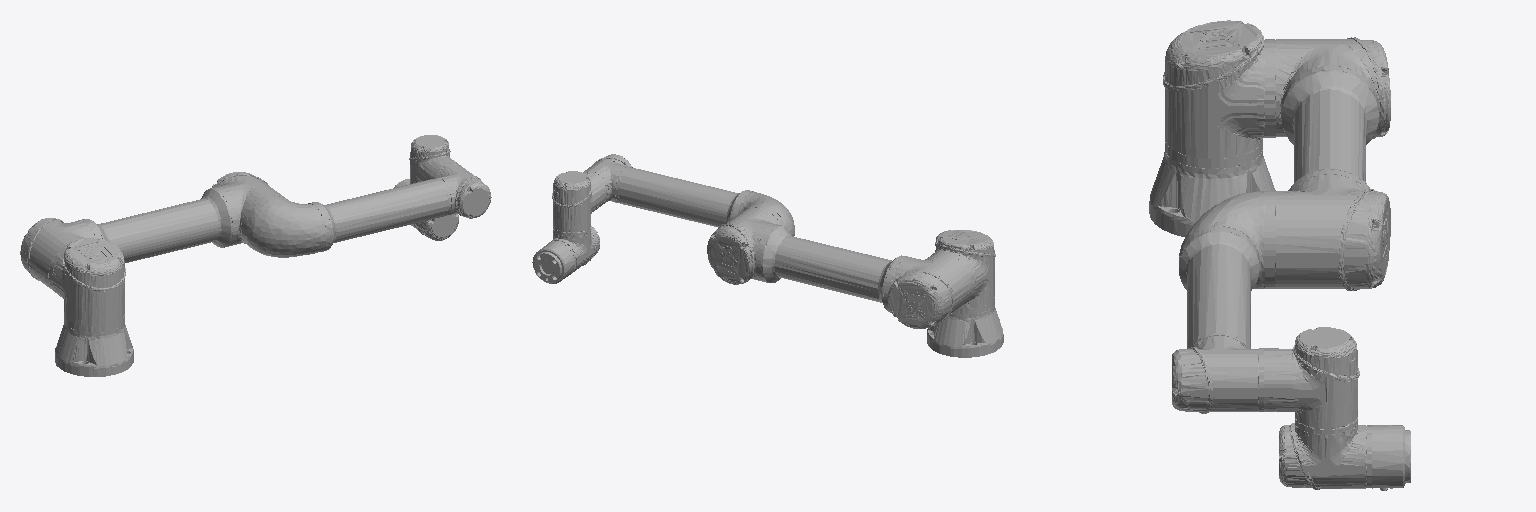
URDF robot description (ur5e):
<?xml version="1.0" encoding="utf-8"?>
<!-- =================================================================================== -->
<!-- |    This document was autogenerated by xacro from ur5e_robot.urdf.xacro          | -->
<!-- |    EDITING THIS FILE BY HAND IS NOT RECOMMENDED                                 | -->
<!-- =================================================================================== -->
<robot name="ur5e">
  <gazebo>
    <plugin filename="libgazebo_ros_control.so" name="ros_control">
      <!--robotNamespace>/</robotNamespace-->
      <!--robotSimType>gazebo_ros_control/DefaultRobotHWSim</robotSimType-->
    </plugin>
    <!--
    <plugin name="gazebo_ros_power_monitor_controller" filename="libgazebo_ros_power_monitor.so">
      <alwaysOn>true</alwaysOn>
      <updateRate>1.0</updateRate>
      <timeout>5</timeout>
      <powerStateTopic>power_state</powerStateTopic>
      <powerStateRate>10.0</powerStateRate>
      <fullChargeCapacity>87.78</fullChargeCapacity>     
      <dischargeRate>-474</dischargeRate>
      <chargeRate>525</chargeRate>
      <dischargeVoltage>15.52</dischargeVoltage>
      <chargeVoltage>16.41</chargeVoltage>
    </plugin>
-->
  </gazebo>
  <!--property name="shoulder_height" value="0.089159" /-->
  <!--property name="shoulder_offset" value="0.13585" /-->
  <!-- shoulder_offset - elbow_offset + wrist_1_length = 0.10915 -->
  <!--property name="upper_arm_length" value="0.42500" /-->
  <!--property name="elbow_offset" value="0.1197" /-->
  <!-- CAD measured -->
  <!--property name="forearm_length" value="0.39225" /-->
  <!--property name="wrist_1_length" value="0.093" /-->
  <!-- CAD measured -->
  <!--property name="wrist_2_length" value="0.09465" /-->
  <!-- In CAD this distance is 0.930, but in the spec it is 0.09465 -->
  <!--property name="wrist_3_length" value="0.0823" /-->
  <!-- manually measured -->
  <link name="base_link">
    <visual>
      <geometry>
        <mesh filename="package://ur_e_description/meshes/ur5e/visual/base.obj"/>
      </geometry>
      <material name="LightGrey">
        <color rgba="0.7 0.7 0.7 1.0"/>
      </material>
    </visual>
    <collision>
      <geometry>
        <mesh filename="package://ur_e_description/meshes/ur5e/collision/base.stl"/>
      </geometry>
    </collision>
    <inertial>
      <mass value="4.0"/>
      <origin rpy="0 0 0" xyz="0.0 0.0 0.0"/>
      <inertia ixx="0.00443333156" ixy="0.0" ixz="0.0" iyy="0.00443333156" iyz="0.0" izz="0.0072"/>
    </inertial>
  </link>
  <joint name="shoulder_pan_joint" type="revolute">
    <parent link="base_link"/>
    <child link="shoulder_link"/>
    <origin rpy="0.0 0.0 0.0" xyz="0.0 0.0 0.163"/>
    <axis xyz="0 0 1"/>
    <limit effort="150.0" lower="-6.28318530718" upper="6.28318530718" velocity="3.14"/>
    <dynamics damping="0.0" friction="0.0"/>
  </joint>
  <link name="shoulder_link">
    <visual>
      <geometry>
        <mesh filename="package://ur_e_description/meshes/ur5e/visual/shoulder.obj"/>
      </geometry>
      <material name="LightGrey">
        <color rgba="0.7 0.7 0.7 1.0"/>
      </material>
    </visual>
    <collision>
      <geometry>
        <mesh filename="package://ur_e_description/meshes/ur5e/collision/shoulder.stl"/>
      </geometry>
    </collision>
    <inertial>
      <mass value="3.7"/>
      <origin rpy="0 0 0" xyz="0.0 0.0 0.0"/>
      <inertia ixx="0.010267495893" ixy="0.0" ixz="0.0" iyy="0.010267495893" iyz="0.0" izz="0.00666"/>
    </inertial>
  </link>
  <joint name="shoulder_lift_joint" type="revolute">
    <parent link="shoulder_link"/>
    <child link="upper_arm_link"/>
    <origin rpy="0.0 1.57079632679 0.0" xyz="0.0 0.138 0.0"/>
    <axis xyz="0 1 0"/>
    <limit effort="150.0" lower="-6.28318530718" upper="6.28318530718" velocity="3.14"/>
    <dynamics damping="0.0" friction="0.0"/>
  </joint>
  <link name="upper_arm_link">
    <visual>
      <geometry>
        <mesh filename="package://ur_e_description/meshes/ur5e/visual/upperarm.obj"/>
      </geometry>
      <material name="LightGrey">
        <color rgba="0.7 0.7 0.7 1.0"/>
      </material>
    </visual>
    <collision>
      <geometry>
        <mesh filename="package://ur_e_description/meshes/ur5e/collision/upperarm.stl"/>
      </geometry>
    </collision>
    <inertial>
      <mass value="8.393"/>
      <origin rpy="0 0 0" xyz="0.0 0.0 0.2125"/>
      <inertia ixx="0.133885781862" ixy="0.0" ixz="0.0" iyy="0.133885781862" iyz="0.0" izz="0.0151074"/>
    </inertial>
  </link>
  <joint name="elbow_joint" type="revolute">
    <parent link="upper_arm_link"/>
    <child link="forearm_link"/>
    <origin rpy="0.0 0.0 0.0" xyz="0.0 -0.131 0.425"/>
    <axis xyz="0 1 0"/>
    <limit effort="150.0" lower="-3.14159265359" upper="3.14159265359" velocity="3.14"/>
    <dynamics damping="0.0" friction="0.0"/>
  </joint>
  <link name="forearm_link">
    <visual>
      <geometry>
        <mesh filename="package://ur_e_description/meshes/ur5e/visual/forearm.obj"/>
      </geometry>
      <material name="LightGrey">
        <color rgba="0.7 0.7 0.7 1.0"/>
      </material>
    </visual>
    <collision>
      <geometry>
        <mesh filename="package://ur_e_description/meshes/ur5e/collision/forearm.stl"/>
      </geometry>
    </collision>
    <inertial>
      <mass value="2.275"/>
      <origin rpy="0 0 0" xyz="0.0 0.0 0.196"/>
      <inertia ixx="0.0311796208615" ixy="0.0" ixz="0.0" iyy="0.0311796208615" iyz="0.0" izz="0.004095"/>
    </inertial>
  </link>
  <joint name="wrist_1_joint" type="revolute">
    <parent link="forearm_link"/>
    <child link="wrist_1_link"/>
    <origin rpy="0.0 1.57079632679 0.0" xyz="0.0 0.0 0.392"/>
    <axis xyz="0 1 0"/>
    <limit effort="28.0" lower="-6.28318530718" upper="6.28318530718" velocity="6.28"/>
    <dynamics damping="0.0" friction="0.0"/>
  </joint>
  <link name="wrist_1_link">
    <visual>
      <geometry>
        <mesh filename="package://ur_e_description/meshes/ur5e/visual/wrist1.obj"/>
      </geometry>
      <material name="LightGrey">
        <color rgba="0.7 0.7 0.7 1.0"/>
      </material>
    </visual>
    <collision>
      <geometry>
        <mesh filename="package://ur_e_description/meshes/ur5e/collision/wrist1.stl"/>
      </geometry>
    </collision>
    <inertial>
      <mass value="1.219"/>
      <origin rpy="0 0 0" xyz="0.0 0.127 0.0"/>
      <inertia ixx="0.00255989897604" ixy="0.0" ixz="0.0" iyy="0.00255989897604" iyz="0.0" izz="0.0021942"/>
    </inertial>
  </link>
  <joint name="wrist_2_joint" type="revolute">
    <parent link="wrist_1_link"/>
    <child link="wrist_2_link"/>
    <origin rpy="0.0 0.0 0.0" xyz="0.0 0.127 0.0"/>
    <axis xyz="0 0 1"/>
    <limit effort="28.0" lower="-6.28318530718" upper="6.28318530718" velocity="6.28"/>
    <dynamics damping="0.0" friction="0.0"/>
  </joint>
  <link name="wrist_2_link">
    <visual>
      <geometry>
        <mesh filename="package://ur_e_description/meshes/ur5e/visual/wrist2.obj"/>
      </geometry>
      <material name="LightGrey">
        <color rgba="0.7 0.7 0.7 1.0"/>
      </material>
    </visual>
    <collision>
      <geometry>
        <mesh filename="package://ur_e_description/meshes/ur5e/collision/wrist2.stl"/>
      </geometry>
    </collision>
    <inertial>
      <mass value="1.219"/>
      <origin rpy="0 0 0" xyz="0.0 0.0 0.1"/>
      <inertia ixx="0.00255989897604" ixy="0.0" ixz="0.0" iyy="0.00255989897604" iyz="0.0" izz="0.0021942"/>
    </inertial>
  </link>
  <joint name="wrist_3_joint" type="revolute">
    <parent link="wrist_2_link"/>
    <child link="wrist_3_link"/>
    <origin rpy="0.0 0.0 0.0" xyz="0.0 0.0 0.1"/>
    <axis xyz="0 1 0"/>
    <limit effort="28.0" lower="-6.28318530718" upper="6.28318530718" velocity="6.28"/>
    <dynamics damping="0.0" friction="0.0"/>
  </joint>
  <link name="wrist_3_link">
    <visual>
      <geometry>
        <mesh filename="package://ur_e_description/meshes/ur5e/visual/wrist3.obj"/>
      </geometry>
      <material name="LightGrey">
        <color rgba="0.7 0.7 0.7 1.0"/>
      </material>
    </visual>
    <collision>
      <geometry>
        <mesh filename="package://ur_e_description/meshes/ur5e/collision/wrist3.stl"/>
      </geometry>
    </collision>
    <inertial>
      <mass value="0.1879"/>
      <origin rpy="1.57079632679 0 0" xyz="0.0 0.0771 0.0"/>
      <inertia ixx="9.89041005217e-05" ixy="0.0" ixz="0.0" iyy="9.89041005217e-05" iyz="0.0" izz="0.0001321171875"/>
    </inertial>
  </link>
  <joint name="ee_fixed_joint" type="fixed">
    <parent link="wrist_3_link"/>
    <child link="ee_link"/>
    <origin rpy="0.0 0.0 1.57079632679" xyz="0.0 0.1 0.0"/>
  </joint>
  <link name="ee_link">
    <collision>
      <geometry>
        <box size="0.01 0.01 0.01"/>
      </geometry>
      <origin rpy="0 0 0" xyz="-0.01 0 0"/>
    </collision>
  </link>
  <transmission name="shoulder_pan_trans">
    <type>transmission_interface/SimpleTransmission</type>
    <joint name="shoulder_pan_joint">
      <hardwareInterface>hardware_interface/PositionJointInterface</hardwareInterface>
    </joint>
    <actuator name="shoulder_pan_motor">
      <mechanicalReduction>1</mechanicalReduction>
    </actuator>
  </transmission>
  <transmission name="shoulder_lift_trans">
    <type>transmission_interface/SimpleTransmission</type>
    <joint name="shoulder_lift_joint">
      <hardwareInterface>hardware_interface/PositionJointInterface</hardwareInterface>
    </joint>
    <actuator name="shoulder_lift_motor">
      <mechanicalReduction>1</mechanicalReduction>
    </actuator>
  </transmission>
  <transmission name="elbow_trans">
    <type>transmission_interface/SimpleTransmission</type>
    <joint name="elbow_joint">
      <hardwareInterface>hardware_interface/PositionJointInterface</hardwareInterface>
    </joint>
    <actuator name="elbow_motor">
      <mechanicalReduction>1</mechanicalReduction>
    </actuator>
  </transmission>
  <transmission name="wrist_1_trans">
    <type>transmission_interface/SimpleTransmission</type>
    <joint name="wrist_1_joint">
      <hardwareInterface>hardware_interface/PositionJointInterface</hardwareInterface>
    </joint>
    <actuator name="wrist_1_motor">
      <mechanicalReduction>1</mechanicalReduction>
    </actuator>
  </transmission>
  <transmission name="wrist_2_trans">
    <type>transmission_interface/SimpleTransmission</type>
    <joint name="wrist_2_joint">
      <hardwareInterface>hardware_interface/PositionJointInterface</hardwareInterface>
    </joint>
    <actuator name="wrist_2_motor">
      <mechanicalReduction>1</mechanicalReduction>
    </actuator>
  </transmission>
  <transmission name="wrist_3_trans">
    <type>transmission_interface/SimpleTransmission</type>
    <joint name="wrist_3_joint">
      <hardwareInterface>hardware_interface/PositionJointInterface</hardwareInterface>
    </joint>
    <actuator name="wrist_3_motor">
      <mechanicalReduction>1</mechanicalReduction>
    </actuator>
  </transmission>
  <gazebo reference="shoulder_link">
    <selfCollide>true</selfCollide>
  </gazebo>
  <gazebo reference="upper_arm_link">
    <selfCollide>true</selfCollide>
  </gazebo>
  <gazebo reference="forearm_link">
    <selfCollide>true</selfCollide>
  </gazebo>
  <gazebo reference="wrist_1_link">
    <selfCollide>true</selfCollide>
  </gazebo>
  <gazebo reference="wrist_3_link">
    <selfCollide>true</selfCollide>
  </gazebo>
  <gazebo reference="wrist_2_link">
    <selfCollide>true</selfCollide>
  </gazebo>
  <gazebo reference="ee_link">
    <selfCollide>true</selfCollide>
  </gazebo>
  <!-- ROS base_link to UR 'Base' Coordinates transform -->
  <link name="base"/>
  <joint name="base_link-base_fixed_joint" type="fixed">
    <!-- NOTE: this rotation is only needed as long as base_link itself is
                 not corrected wrt the real robot (ie: rotated over 180
                 degrees)
      -->
    <origin rpy="0 0 -3.14159265359" xyz="0 0 0"/>
    <parent link="base_link"/>
    <child link="base"/>
  </joint>
  <!-- Frame coincident with all-zeros TCP on UR controller -->
  <link name="tool0"/>
  <joint name="wrist_3_link-tool0_fixed_joint" type="fixed">
    <origin rpy="-1.57079632679 0 0" xyz="0 0.1 0"/>
    <parent link="wrist_3_link"/>
    <child link="tool0"/>
  </joint>
  <link name="world"/>
  <joint name="world_joint" type="fixed">
    <parent link="world"/>
    <child link="base_link"/>
    <origin rpy="0.0 0.0 0.0" xyz="0.0 0.0 0.0"/>
  </joint>
</robot>

--- Render facts (derived) ---
The picture shows the robot from 3 angles, left to right: view 1: azimuth 30°, elevation 25°; view 2: azimuth 150°, elevation 25°; view 3: azimuth 270°, elevation 25°; orthographic projection.
Robot: ur5e — 11 links, 10 joints (6 revolute, 4 fixed); root link world; default pose: all joints at 0.
Visible links, largest first — view 1: forearm_link, upper_arm_link, shoulder_link, base_link, wrist_1_link, wrist_2_link; view 2: upper_arm_link, forearm_link, base_link, wrist_1_link, shoulder_link, wrist_3_link, wrist_2_link; view 3: upper_arm_link, forearm_link, shoulder_link, wrist_1_link, base_link, wrist_2_link, wrist_3_link.
Link boxes in pixels (<box>): forearm_link: <box>245,163,491,257</box>; upper_arm_link: <box>20,172,284,289</box>; shoulder_link: <box>49,238,125,325</box>; base_link: <box>55,315,133,376</box>; wrist_1_link: <box>409,135,457,183</box>; wrist_2_link: <box>411,213,458,240</box>; upper_arm_link: <box>707,205,971,328</box>; forearm_link: <box>583,154,794,236</box>; base_link: <box>927,297,1003,357</box>; wrist_1_link: <box>552,171,606,236</box>; shoulder_link: <box>931,230,995,308</box>; wrist_3_link: <box>532,242,574,283</box>; wrist_2_link: <box>549,226,599,273</box>; upper_arm_link: <box>1264,37,1390,290</box>; forearm_link: <box>1172,191,1263,413</box>; shoulder_link: <box>1163,20,1275,157</box>; wrist_1_link: <box>1264,327,1359,434</box>; base_link: <box>1149,140,1275,236</box>; wrist_2_link: <box>1279,423,1371,489</box>; wrist_3_link: <box>1372,425,1410,490</box>.
Bounding box of the posed robot: 0.931 × 0.309 × 0.235 m (x, y, z).
7 mesh visuals loaded from 7 distinct referenced files (7 OBJ).